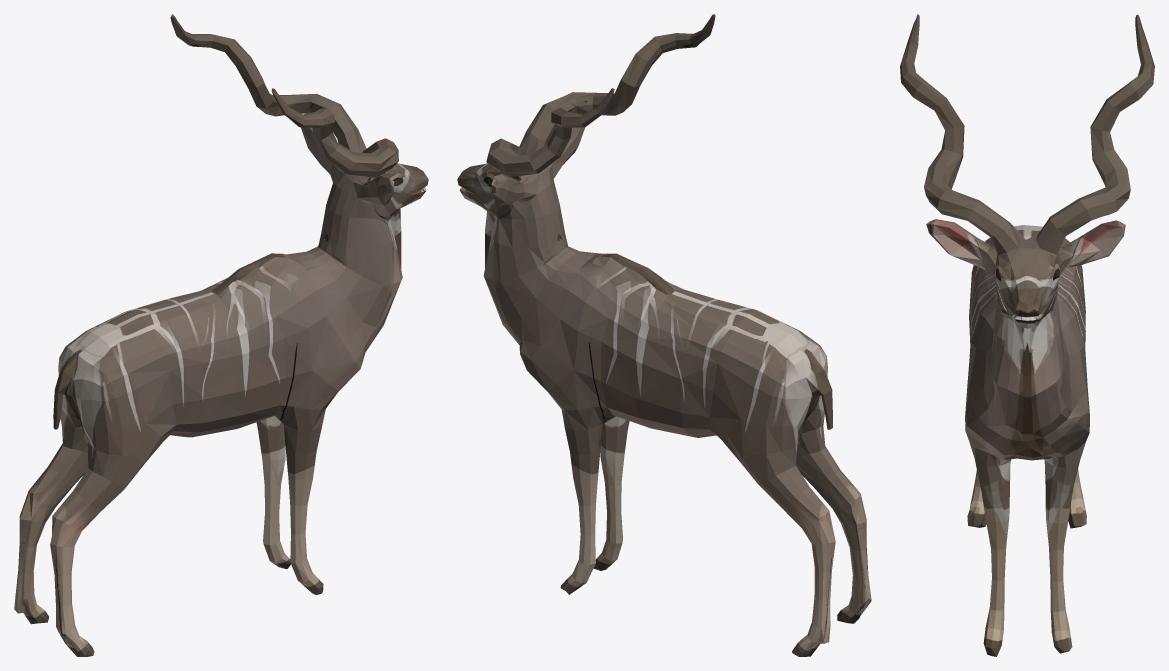
Rendered from Kudu.glb.
3 renders of one model, left to right at view 1: azimuth 30°, elevation 25°; view 2: azimuth 150°, elevation 25°; view 3: azimuth 270°, elevation 25°, orthographic. The views are drawn at different scales.
Parts seen in each view (by area): view 1: tripo_node_4545131d-d474-46de-ad10-163663480764; view 2: tripo_node_4545131d-d474-46de-ad10-163663480764; view 3: tripo_node_4545131d-d474-46de-ad10-163663480764.
Boxes of the visible parts, x1=… form: tripo_node_4545131d-d474-46de-ad10-163663480764: x1=14, y1=14, x2=428, y2=656; tripo_node_4545131d-d474-46de-ad10-163663480764: x1=457, y1=14, x2=871, y2=656; tripo_node_4545131d-d474-46de-ad10-163663480764: x1=900, y1=14, x2=1154, y2=656.
Size of the model in its own units: 0.7458 by 0.9982 by 0.3862.
Materials: 1 (1 with a texture image).
